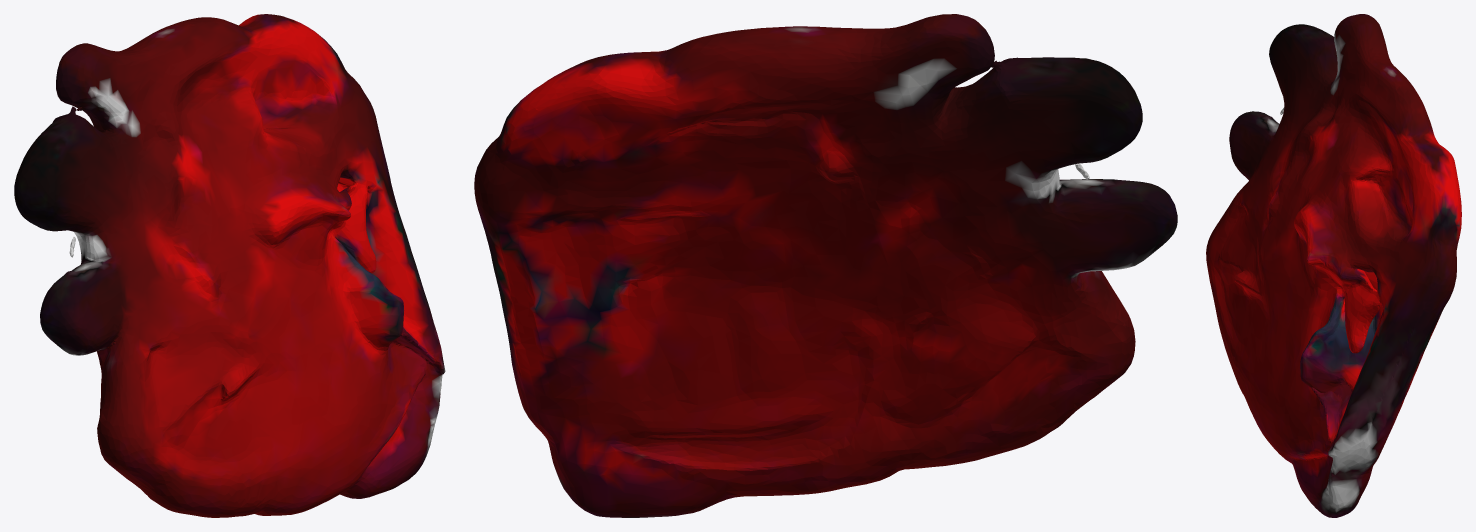
File: heart.glb
3 views of the same model, side by side, from view 1: azimuth 30°, elevation 25°; view 2: azimuth 150°, elevation 25°; view 3: azimuth 270°, elevation 25° (orthographic). The views are drawn at different scales.
Visible parts, largest first — view 1: geometry_0; view 2: geometry_0; view 3: geometry_0.
Part boxes in pixels (<box>): geometry_0: <box>14,14,445,517</box>; geometry_0: <box>474,14,1177,517</box>; geometry_0: <box>1206,14,1461,517</box>.
Bounding box in the file's own units: 0.6471 × 0.6562 × 0.394.
